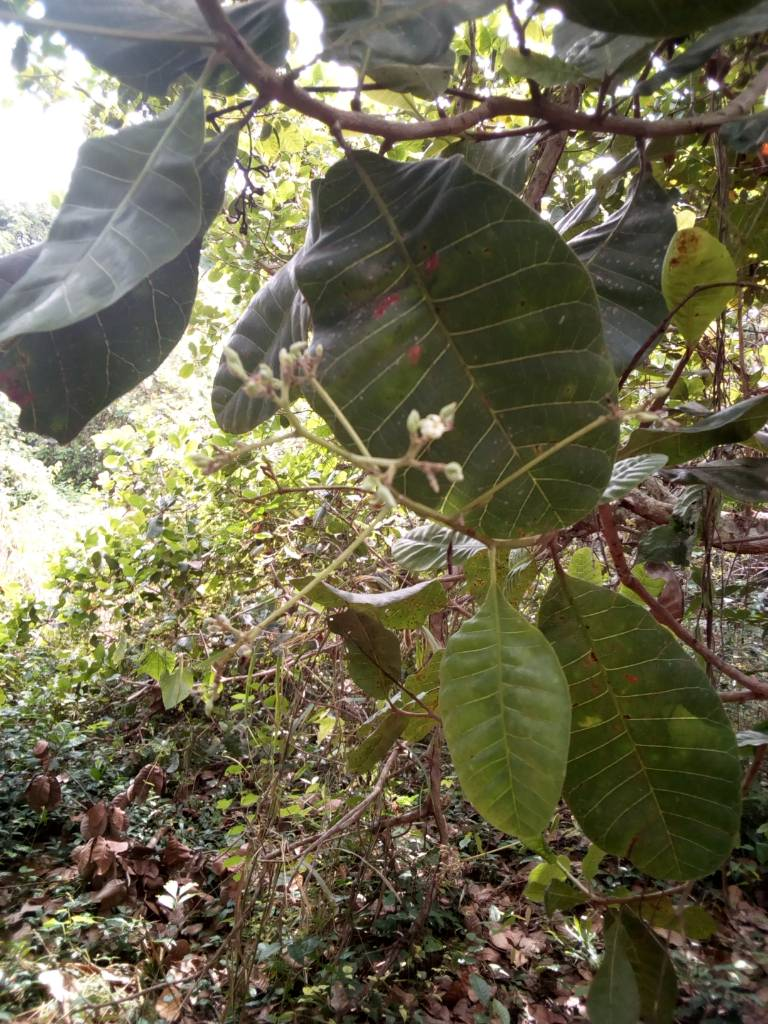alternariose: (526, 561, 752, 907)
